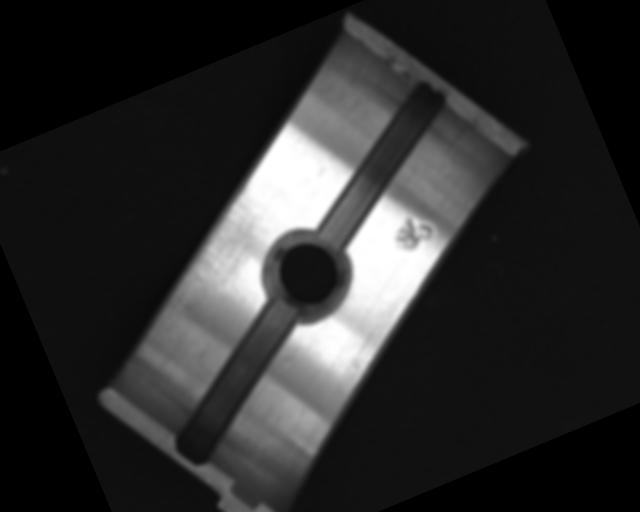bruise: (384, 206, 438, 257)
gap: (281, 76, 481, 255), (136, 292, 335, 468)
hole: (251, 216, 366, 332)
scratch: (126, 177, 291, 326)
